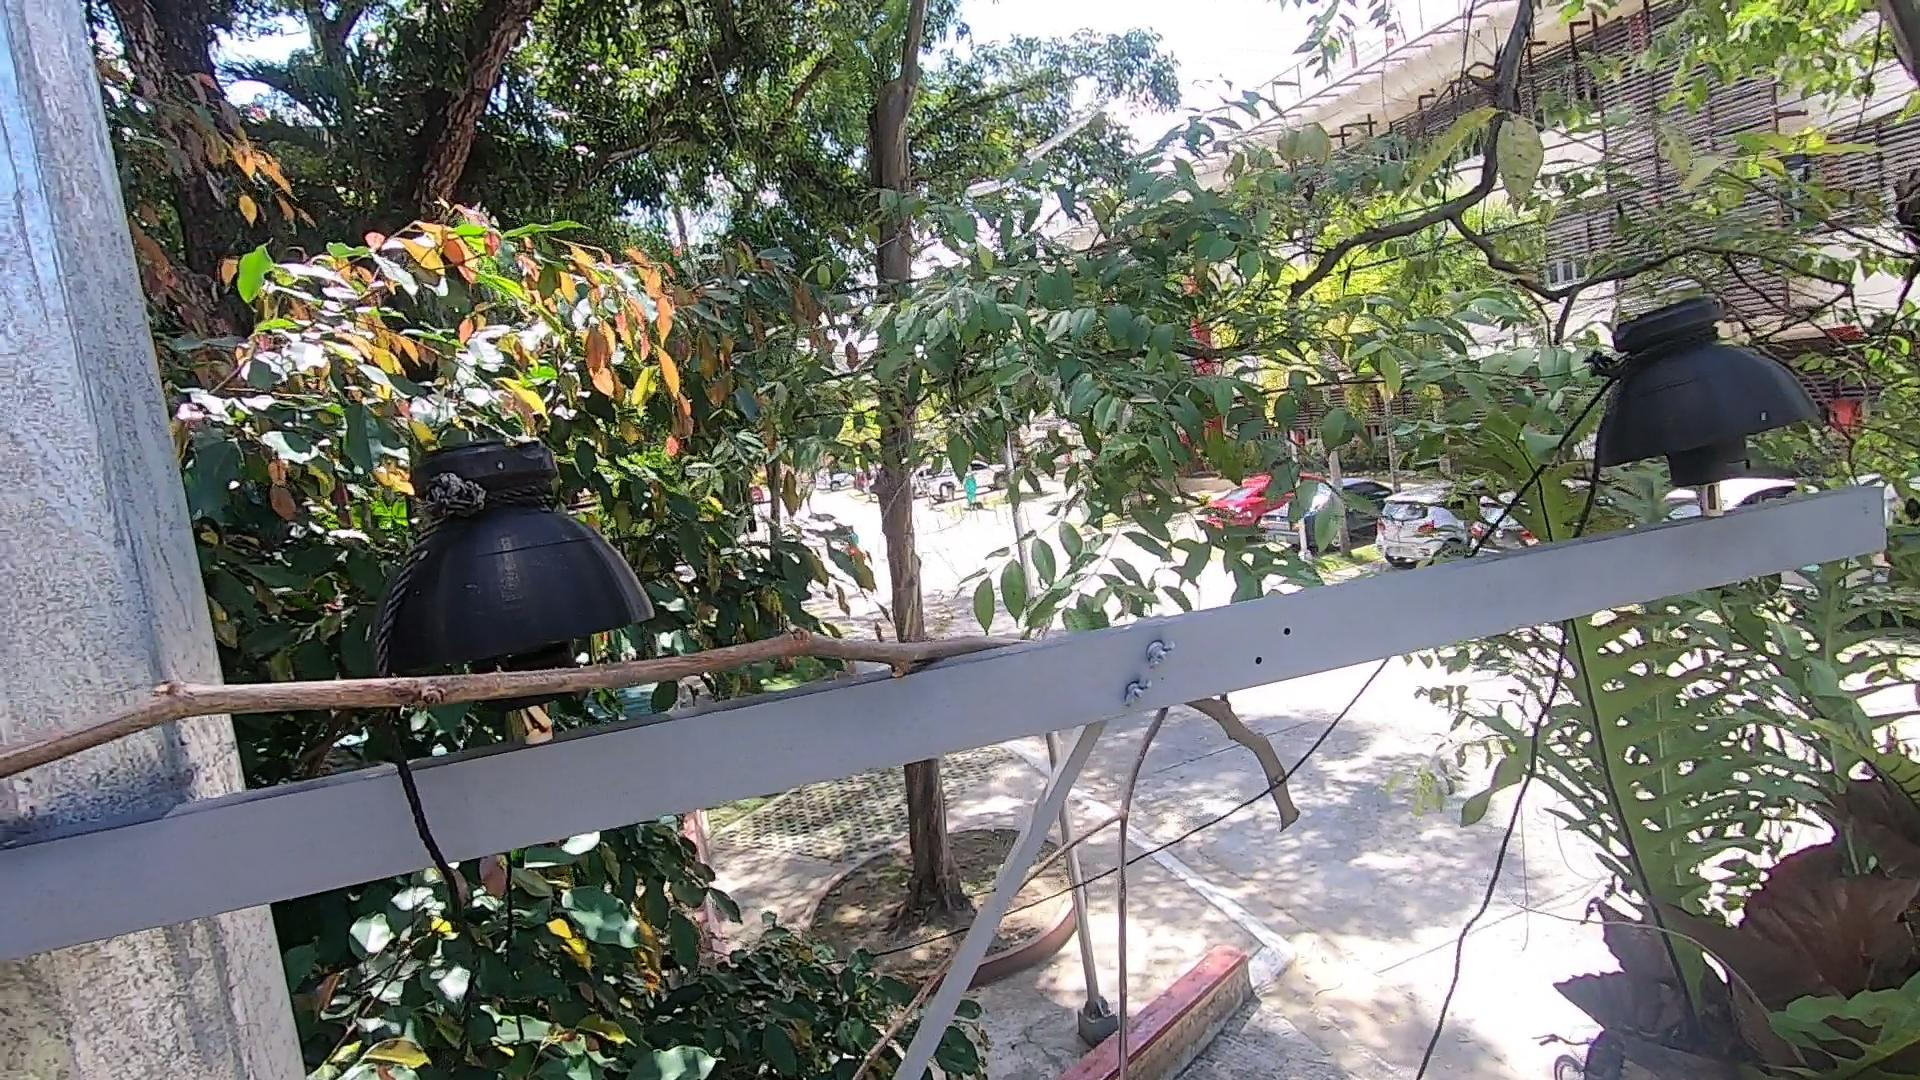tree branch: (1, 621, 1011, 823), (1015, 698, 1335, 1080), (828, 955, 952, 1080)
